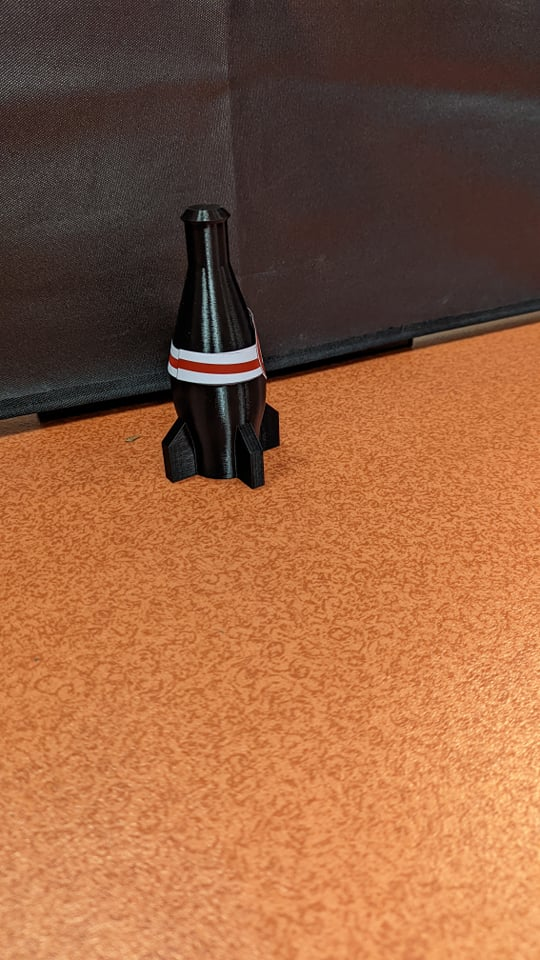bottle: (140, 201, 293, 508)
